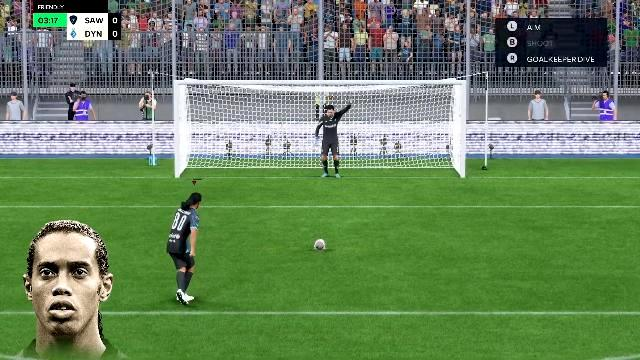bottom-left: (183, 139, 269, 178)
bottom-right: (357, 139, 457, 178)
center-down: (272, 139, 356, 178)
center-up: (272, 88, 356, 138)
football: (311, 241, 329, 250)
goalkeeper: (311, 108, 355, 180)
player: (164, 189, 212, 311)
top-left: (182, 88, 270, 138)
top-right: (357, 88, 459, 138)
